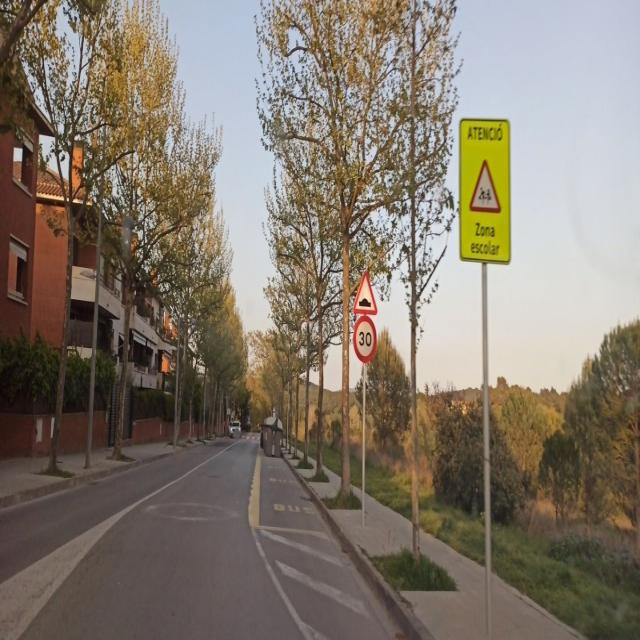car: (229, 422, 242, 438)
